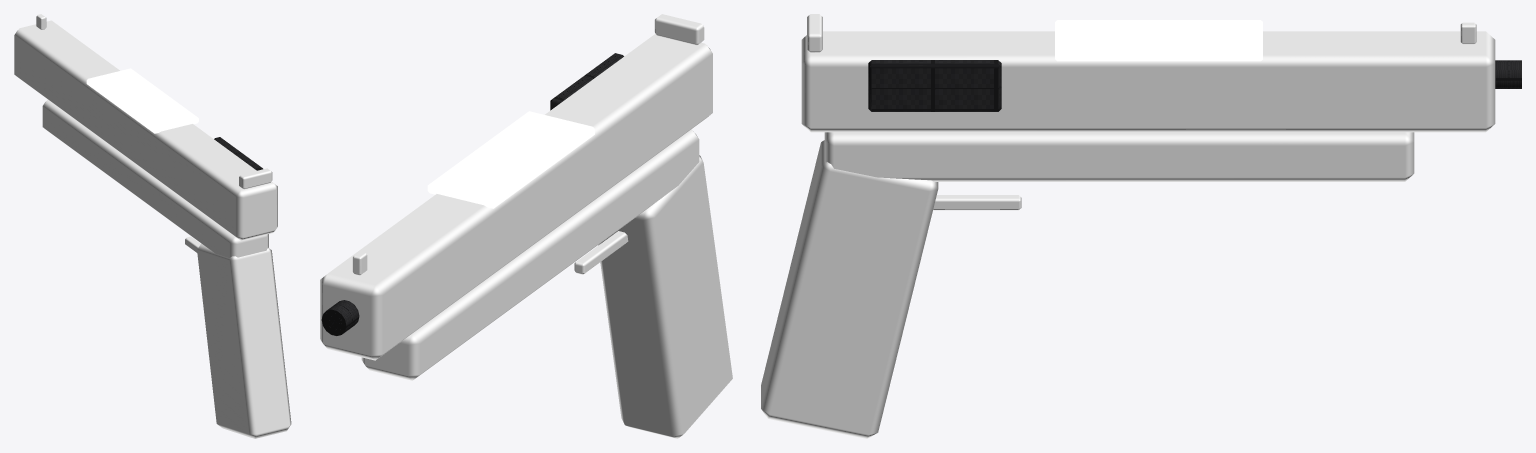
File: verdict.glb
3 renders of one model, left to right at view 1: azimuth 30°, elevation 25°; view 2: azimuth 150°, elevation 25°; view 3: azimuth 270°, elevation 25°, orthographic. The views are drawn at different scales.
Size of the model in its own units: 0.0325 by 0.1668 by 0.2852.
Materials: 4 (1 with a texture image).
